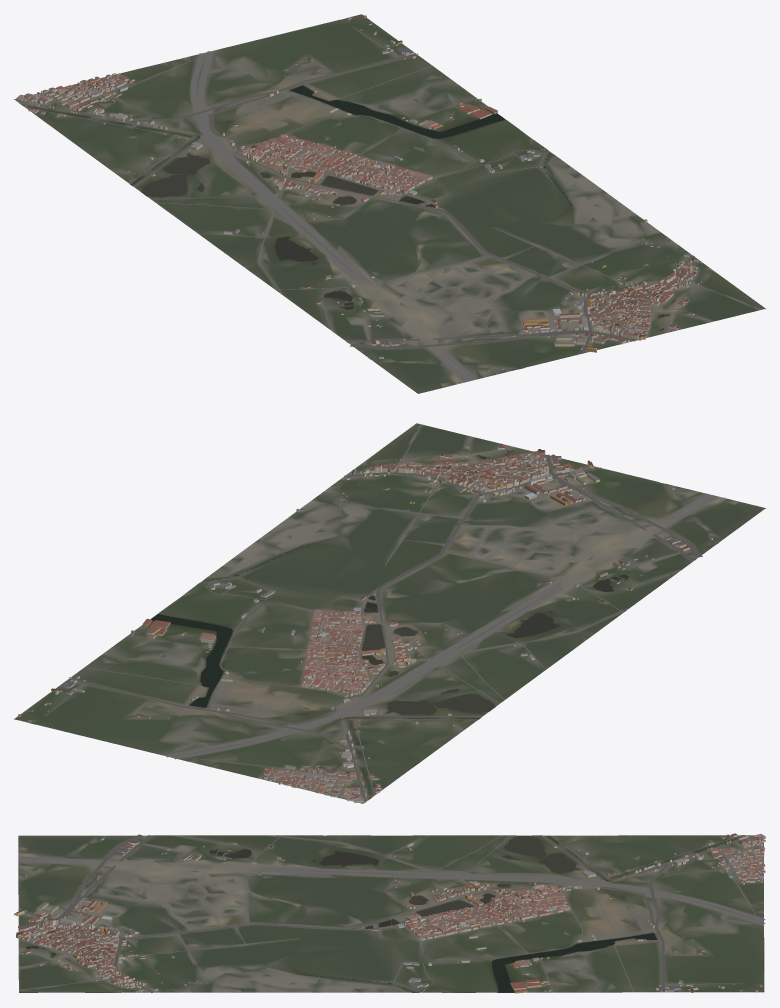
The picture shows the model from 3 angles, top to bottom: view 1: azimuth 30°, elevation 25°; view 2: azimuth 150°, elevation 25°; view 3: azimuth 270°, elevation 25°; orthographic projection. The views are drawn at different scales.
Visible parts, largest first — view 1: ground, buildings, roads, water; view 2: ground, buildings, roads, water; view 3: ground, buildings, roads, water.
Boxes of the visible parts, box(x1,y1,x2,y2) form: ground: box(14, 14, 765, 393); buildings: box(16, 15, 701, 383); roads: box(16, 26, 760, 382); water: box(24, 85, 675, 330); ground: box(14, 423, 765, 803); buildings: box(18, 444, 725, 802); roads: box(44, 424, 718, 802); water: box(151, 450, 629, 797); ground: box(18, 835, 764, 992); buildings: box(14, 833, 765, 993); roads: box(18, 834, 765, 992); water: box(26, 835, 747, 992).
Bounding box in the file's own units: 1413 × 31.24 × 2828.
